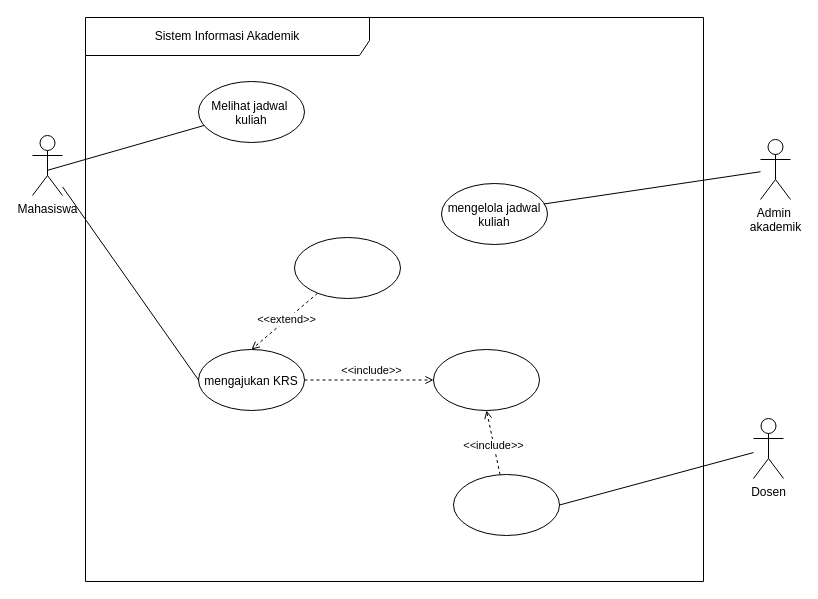
This 818x599 diagram has some shape labels left out. Each missing label, with the box of its shape:
Memproses persetujuan penolakan KRS: (452, 474, 560, 536)
memvalidasi KRS: (432, 348, 540, 410)
mengunduh bukti pengajuan: (294, 236, 400, 298)
